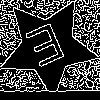E: (23, 21, 72, 77)
